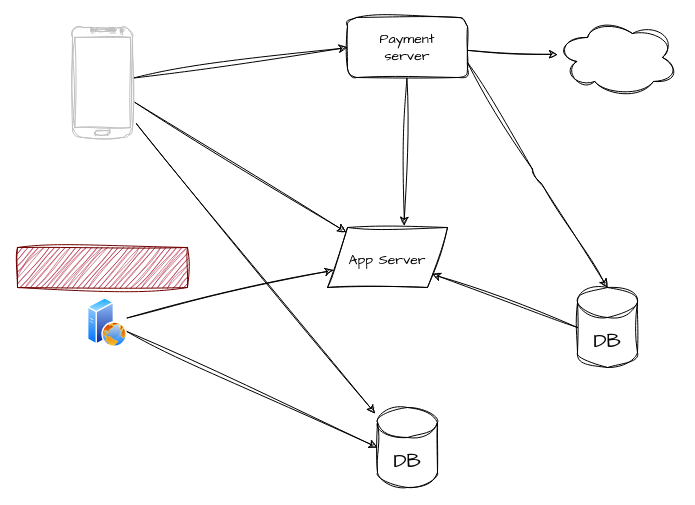
This 695x505 diagram has some shape labels left out. The centre of each missing label's shape, as x and y in pixels:
"3rd party" belongs at (617,57).
"Web Application" belongs at (102,267).
